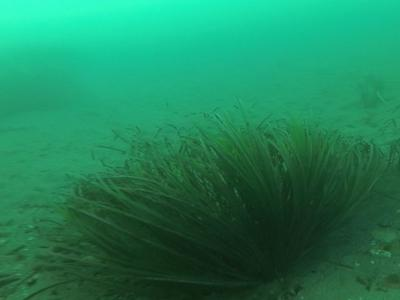urchin: (260, 256, 287, 284)
